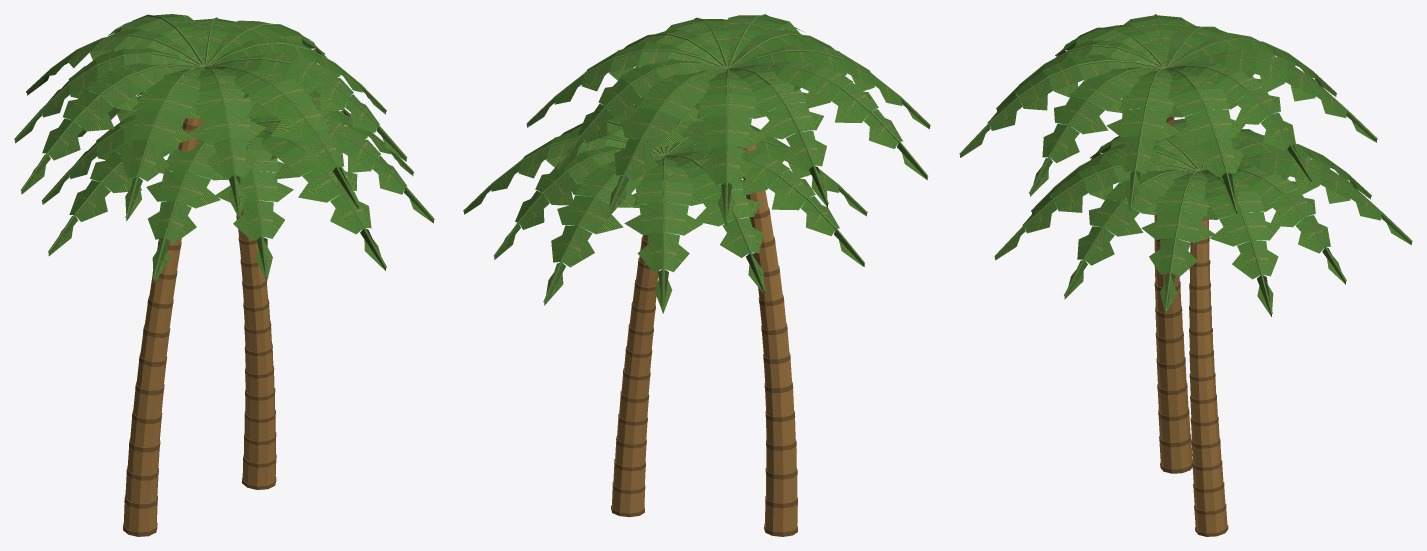
The model's file is palm-cluster.glb.
The picture shows the model from 3 angles, left to right: view 1: azimuth 30°, elevation 25°; view 2: azimuth 150°, elevation 25°; view 3: azimuth 270°, elevation 25°; orthographic projection. The views are drawn at different scales.
Visible parts, largest first — view 1: palm-cluster; view 2: palm-cluster; view 3: palm-cluster.
Part boxes in pixels (box(x1,y1,x2,y2)): palm-cluster: box(14, 14, 434, 536); palm-cluster: box(463, 14, 930, 536); palm-cluster: box(959, 14, 1412, 536).
Bounding box in the file's own units: 4.46 × 4.88 × 4.55.
Materials: 1 (1 with a texture image).
